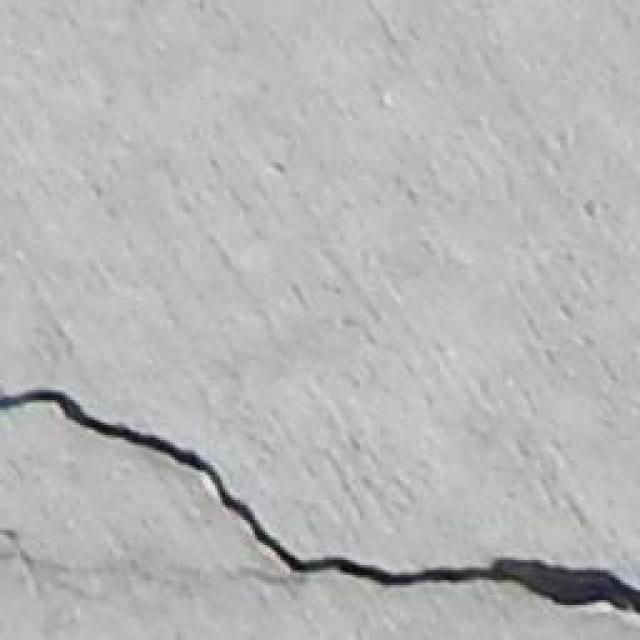concrete-crack: (0, 390, 640, 618)
